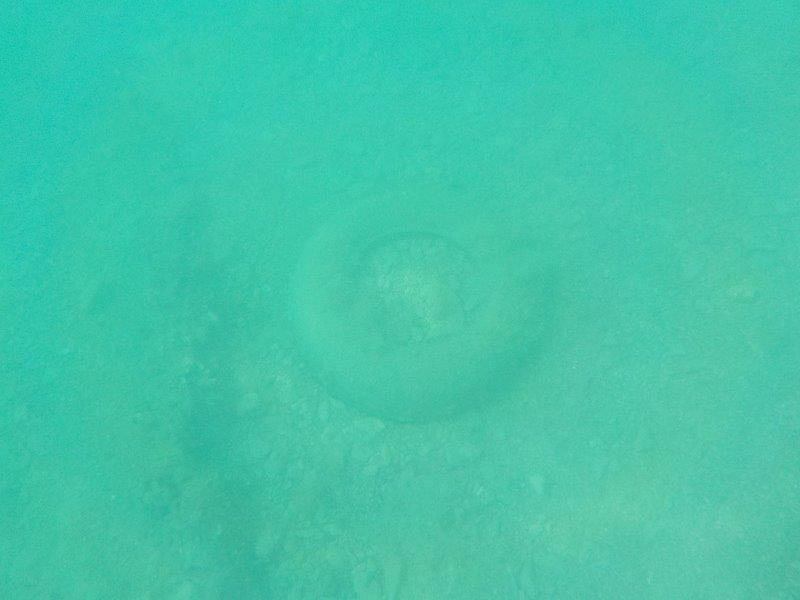tire: (284, 182, 552, 426)
